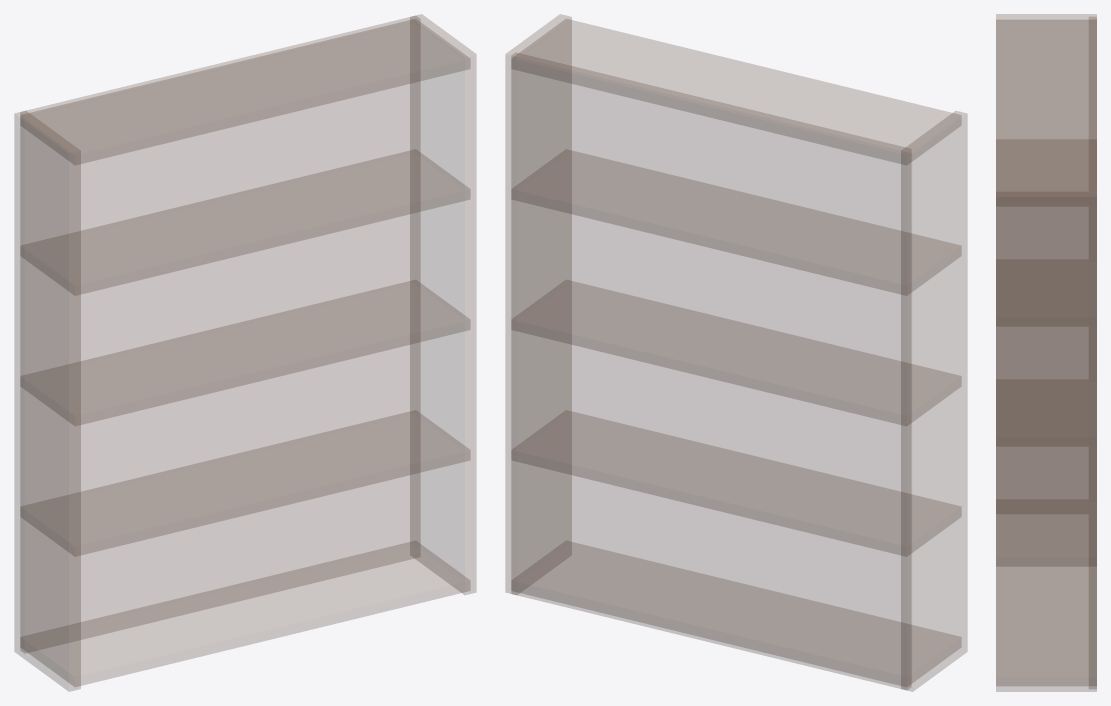
Rendered from shelf-vhs-ghost.glb.
3 renders of one model, left to right at view 1: azimuth 30°, elevation 25°; view 2: azimuth 150°, elevation 25°; view 3: azimuth 270°, elevation 25°, orthographic. The views are drawn at different scales.
Bounding box in the file's own units: 1.03 × 1.3 × 0.24.
